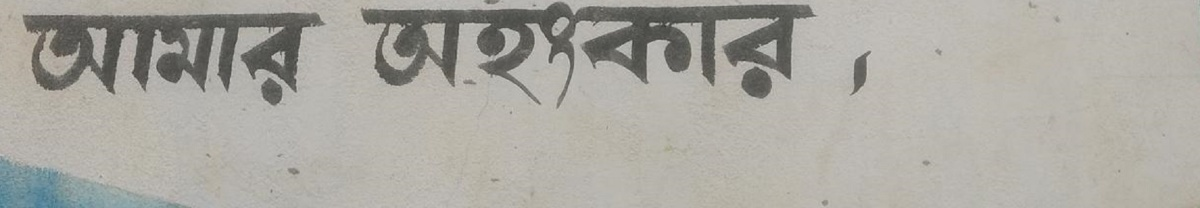text: (353, 1, 368, 111), (369, 1, 384, 111), (385, 1, 400, 111), (401, 1, 416, 111), (417, 1, 432, 111), (433, 1, 448, 111), (449, 1, 464, 111), (465, 1, 480, 111), (481, 1, 496, 111), (497, 1, 512, 111), (513, 1, 528, 111), (529, 1, 544, 111), (545, 1, 560, 111), (561, 1, 576, 111), (577, 1, 592, 111), (593, 1, 608, 111), (609, 1, 624, 111), (625, 1, 640, 111), (641, 1, 656, 111), (657, 1, 672, 111), (673, 1, 688, 111), (689, 1, 704, 111), (705, 1, 720, 111), (721, 1, 736, 111), (737, 1, 752, 111), (753, 1, 768, 111), (769, 1, 784, 111), (785, 1, 800, 111), (801, 1, 816, 111), (817, 1, 832, 111), (833, 1, 848, 111), (849, 1, 864, 111), (33, 4, 48, 110), (49, 4, 64, 110), (65, 4, 80, 110), (81, 4, 96, 110), (97, 4, 112, 110), (113, 4, 128, 110), (129, 4, 144, 110), (145, 4, 160, 110), (161, 4, 176, 110), (177, 4, 192, 110), (193, 4, 208, 110), (209, 4, 224, 110), (225, 4, 240, 110), (241, 4, 256, 110), (257, 4, 272, 110), (273, 4, 288, 110), (289, 4, 304, 110), (305, 4, 320, 110), (865, 1, 879, 111), (20, 4, 32, 110), (321, 4, 331, 110)
